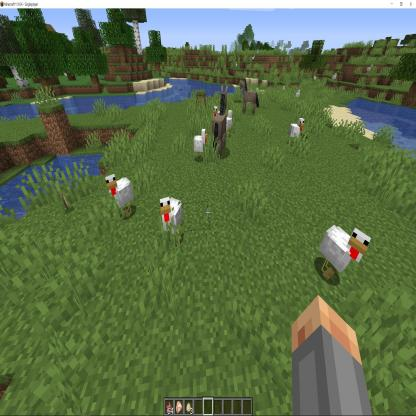minecraft-pigs: (199, 155, 229, 222)
